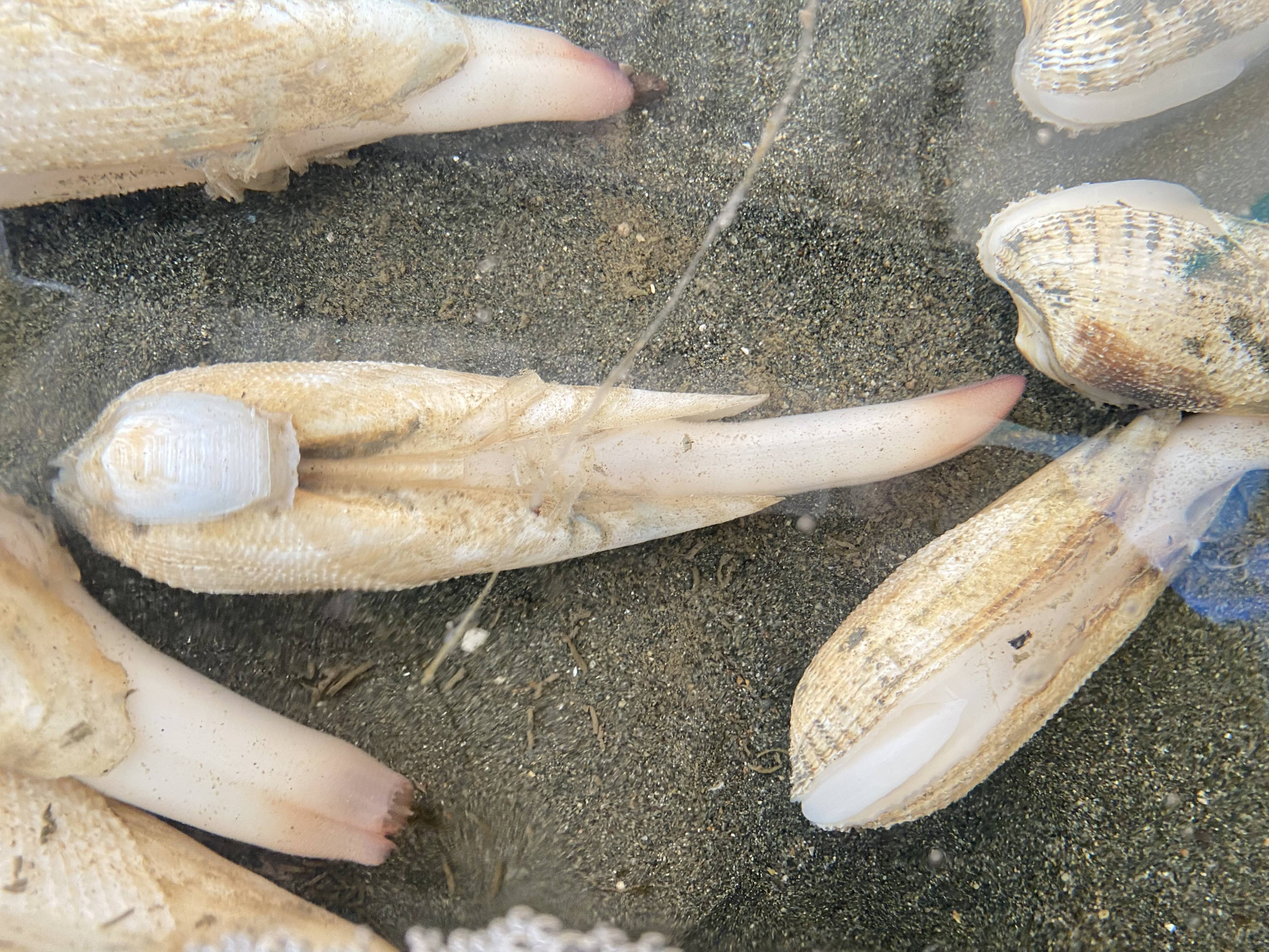Healthy: (52, 362, 1024, 594), (790, 410, 1211, 825), (0, 497, 411, 864), (0, 0, 633, 207)
